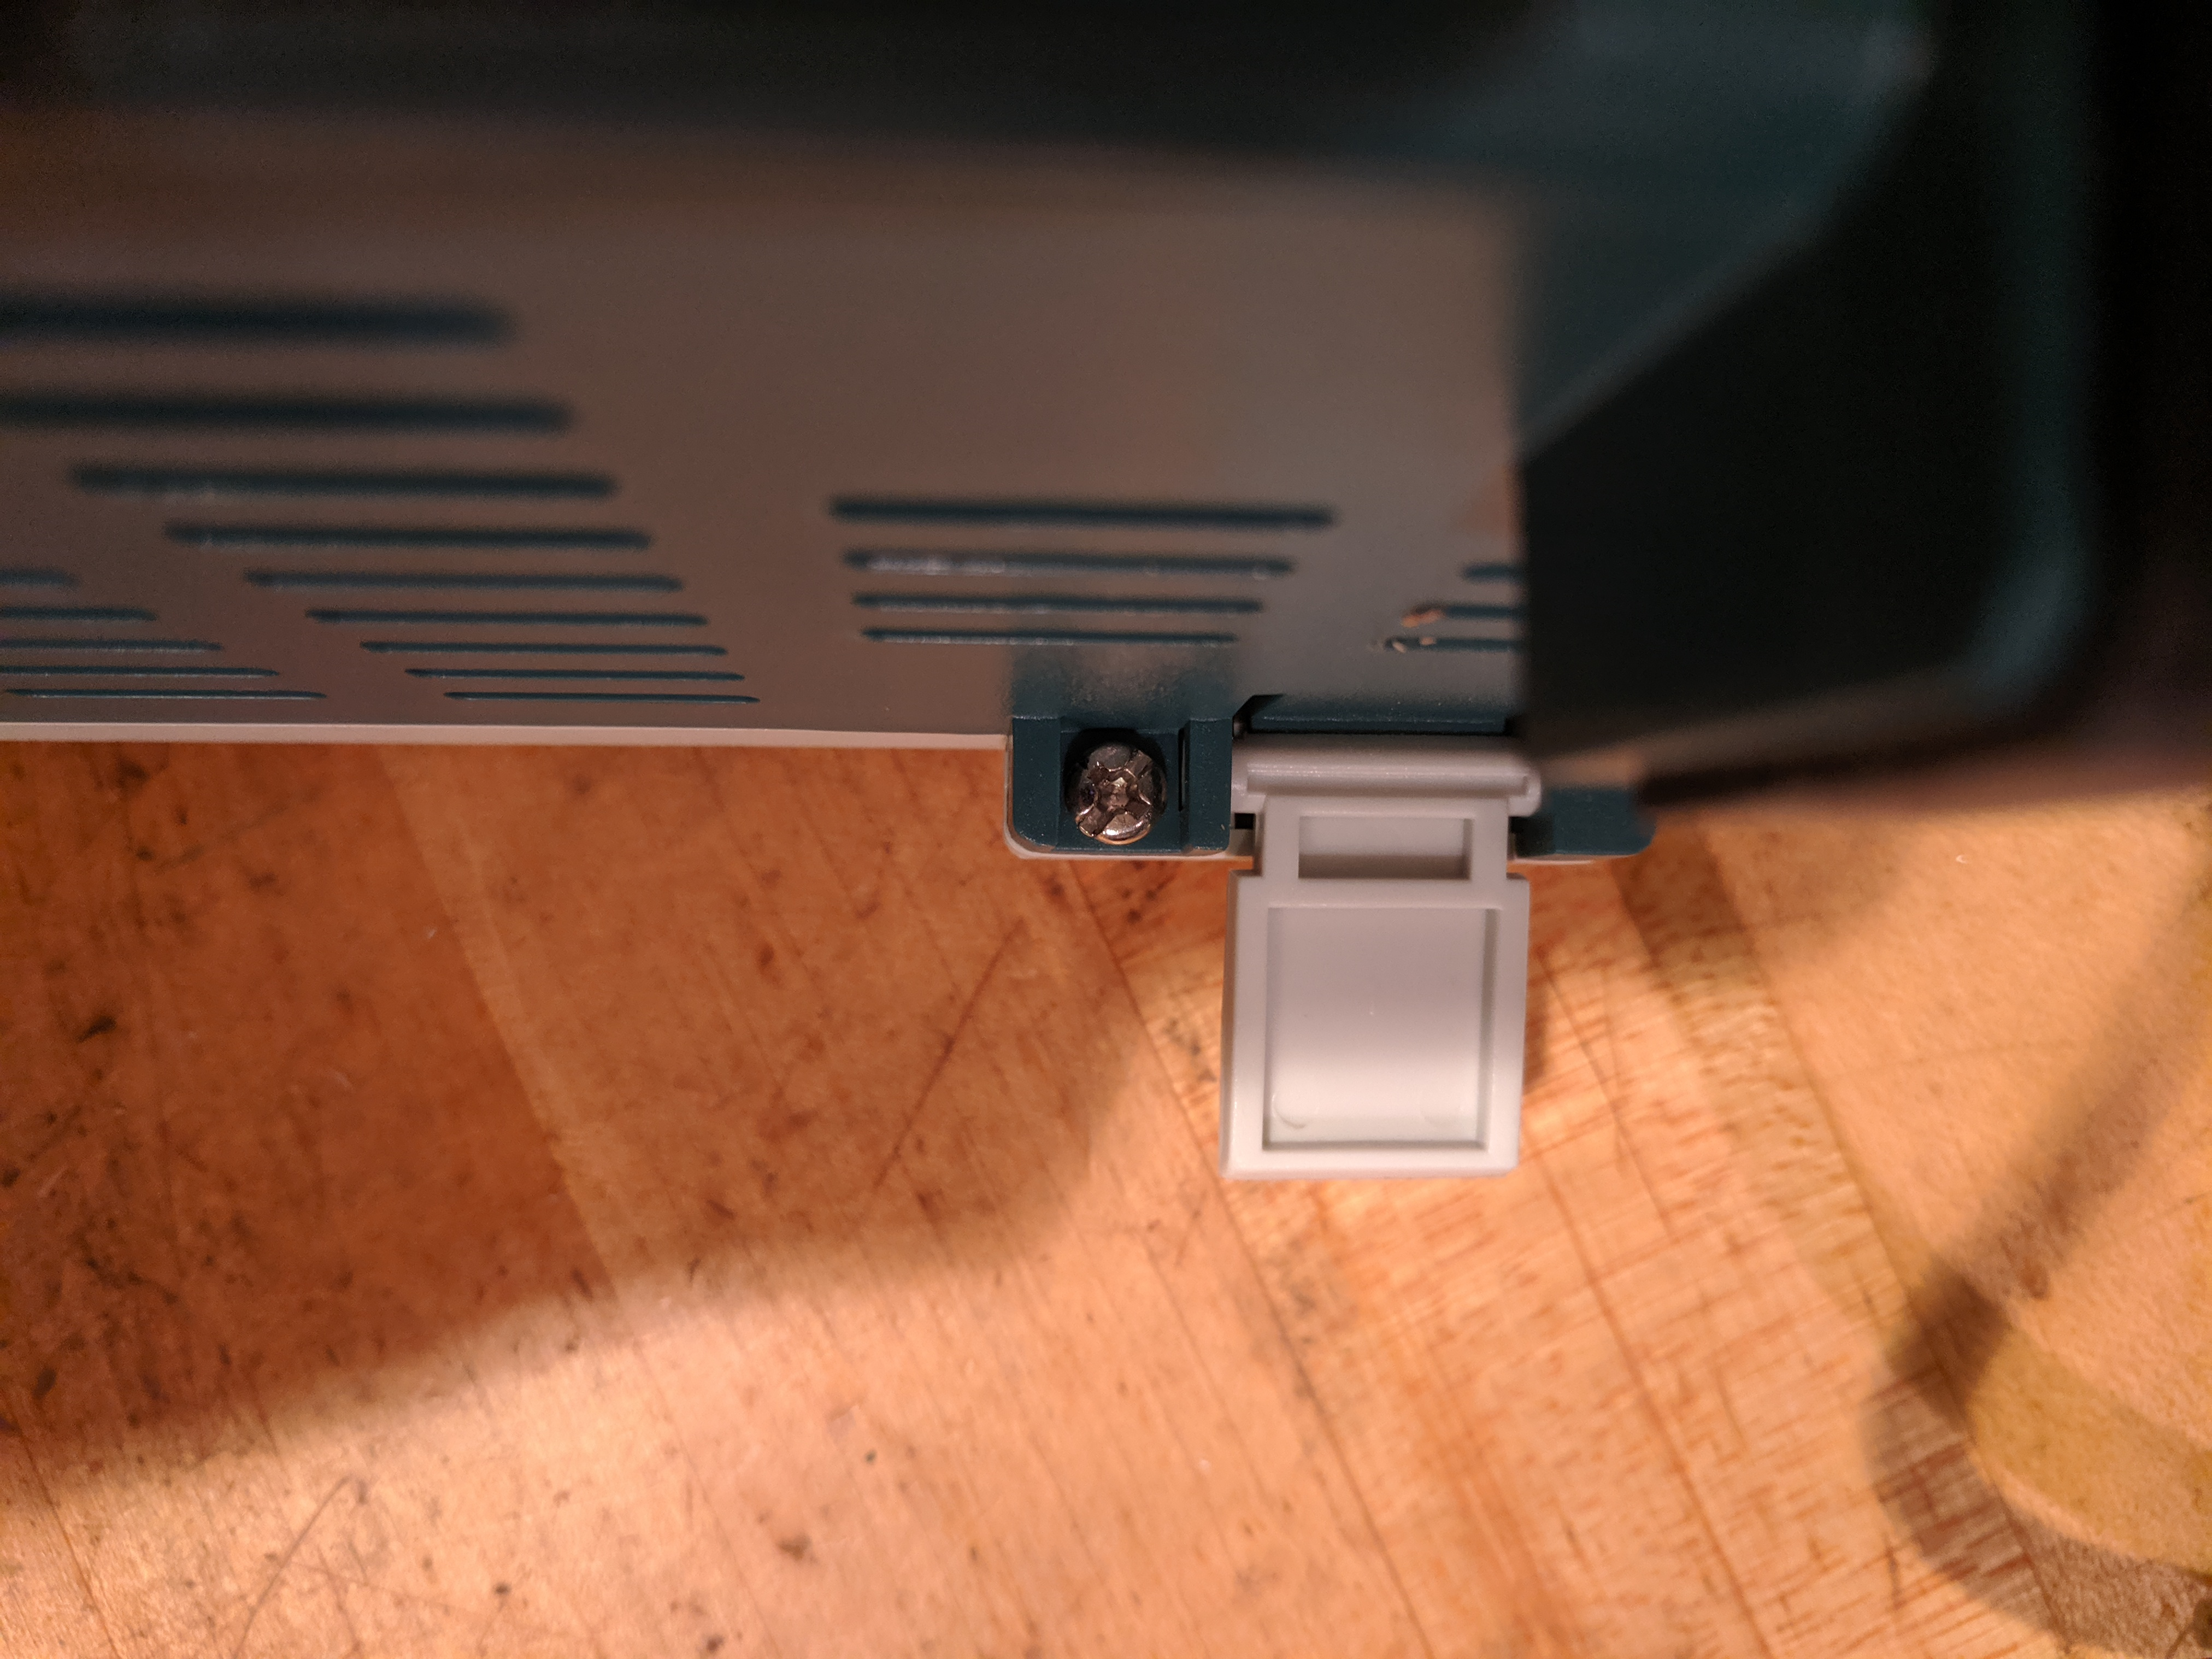cross_recessed_screw: (1061, 739, 1158, 831)
